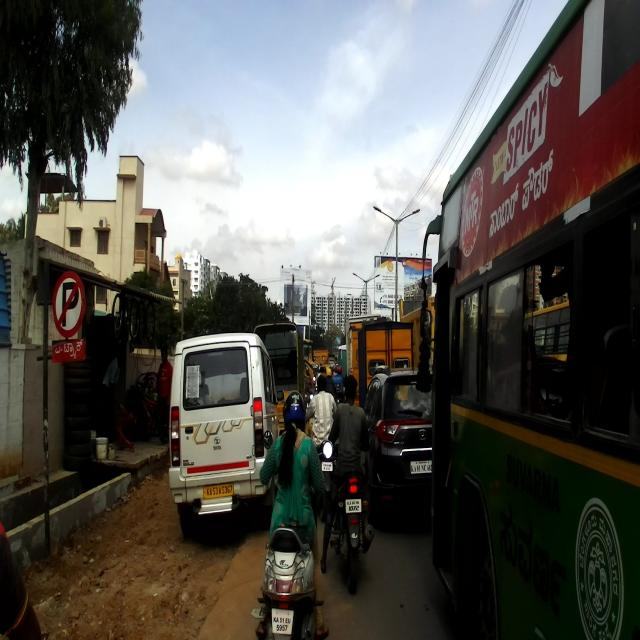bus: (416, 0, 639, 638)
car: (164, 331, 284, 543), (362, 356, 434, 545)
motorcycle: (322, 439, 378, 598)
scooter: (248, 428, 336, 640)
